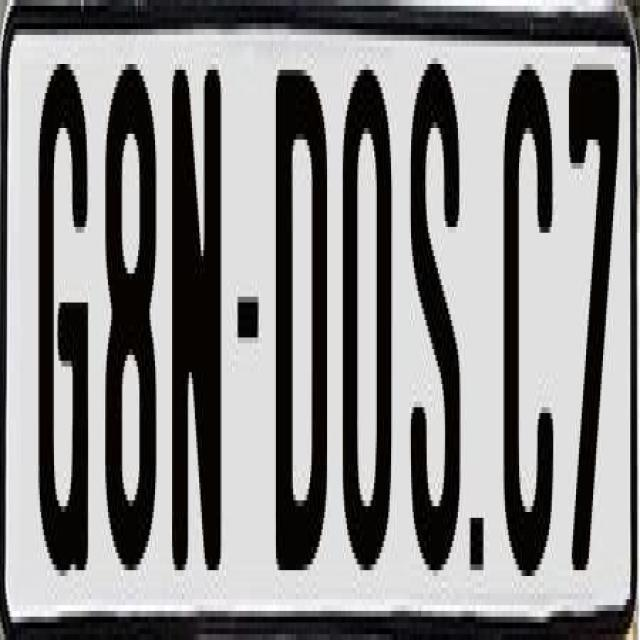0: (342, 58, 392, 564)
7: (566, 52, 613, 558)
8: (101, 47, 158, 570)
C: (504, 52, 560, 582)
D: (272, 52, 322, 582)
G: (39, 64, 90, 576)
N: (168, 70, 216, 606)
S: (408, 58, 458, 599)
